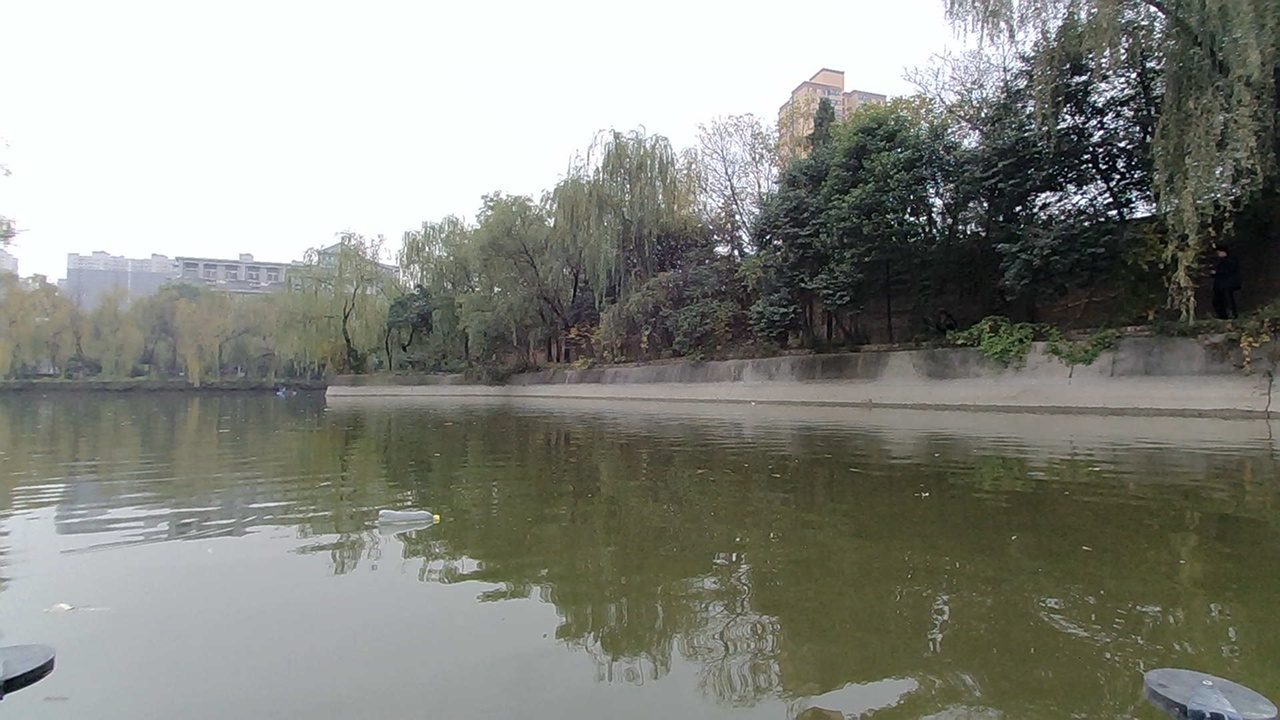bottle: (358, 491, 455, 549)
